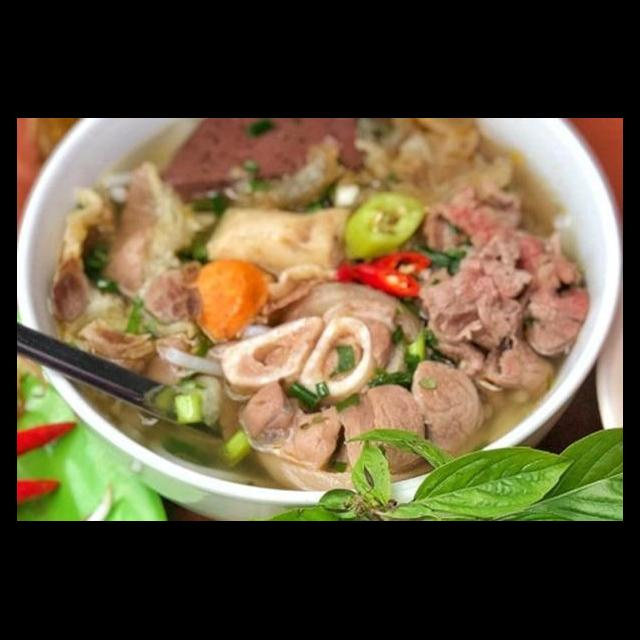thit bo: (415, 192, 595, 362), (409, 222, 561, 400), (99, 158, 212, 334)
thit heo: (226, 354, 491, 480)
